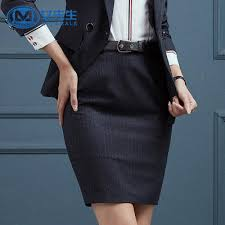F_tailored skirt: (56, 43, 184, 213)
